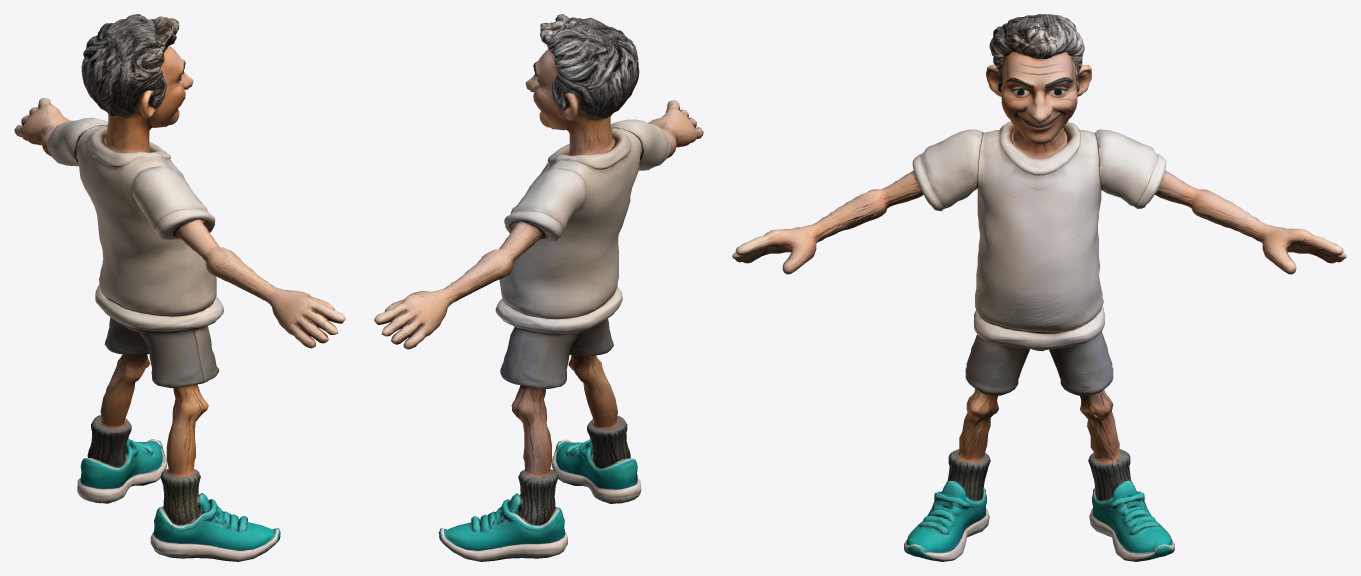
3 renders of one model, left to right at view 1: azimuth 30°, elevation 25°; view 2: azimuth 150°, elevation 25°; view 3: azimuth 270°, elevation 25°, orthographic.
Parts seen in each view (by area): view 1: tripo_node_c90d08cf; view 2: tripo_node_c90d08cf; view 3: tripo_node_c90d08cf.
Part boxes in pixels (x1,y1,x2,y2): tripo_node_c90d08cf: (14,14,345,561); tripo_node_c90d08cf: (374,14,703,561); tripo_node_c90d08cf: (732,14,1346,561).
Size of the model in its own units: 0.2524 by 0.9159 by 1.
Materials: 1 (1 with a texture image).
